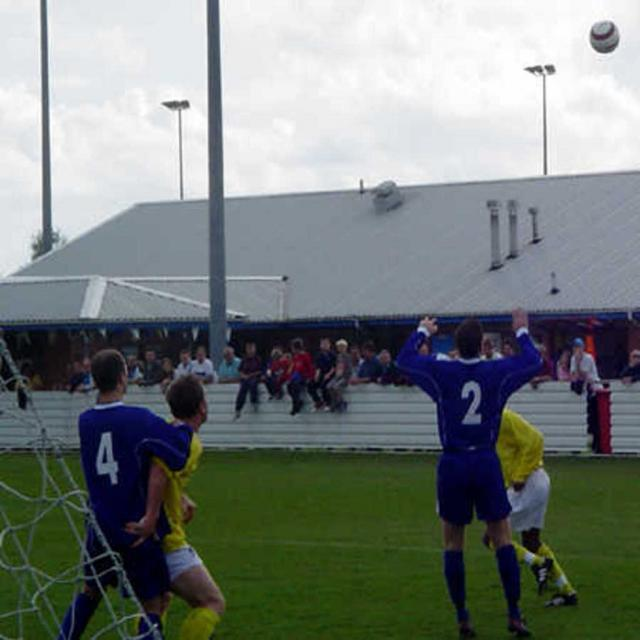football: (582, 19, 637, 60)
